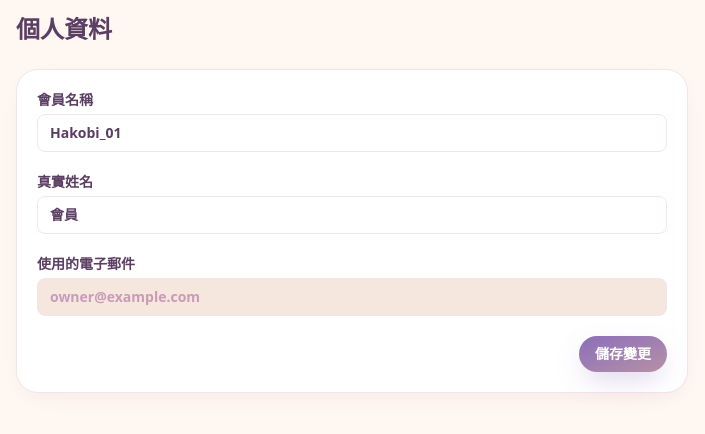
Test case: Profile view › keeps the submitted form and maps a username conflict to the field
Replace the text in the field with test id "profile-username" with "Hakobi_02" at (352, 133), box [37,114,667,152]
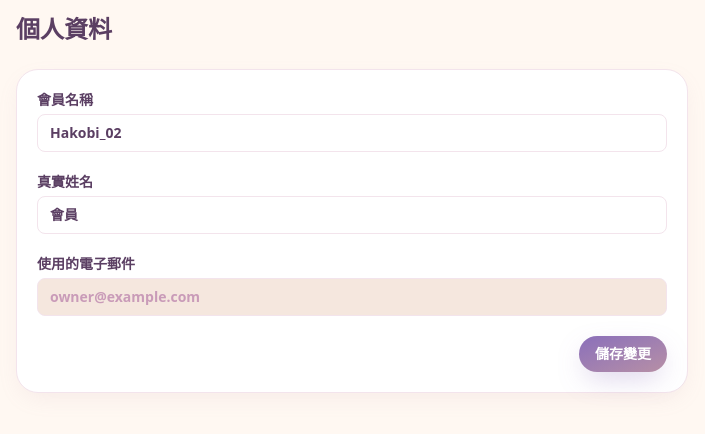
Replace the text in the field with test id "profile-display-name" with "王小明" at (352, 215), box [37,196,667,234]
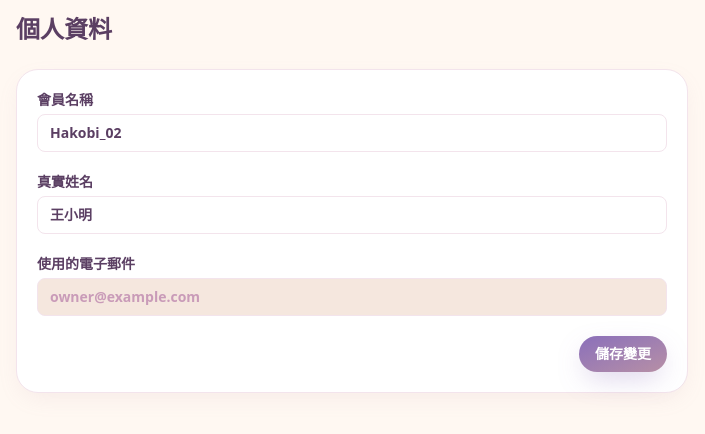
Submit the form, box [37,90,667,372]
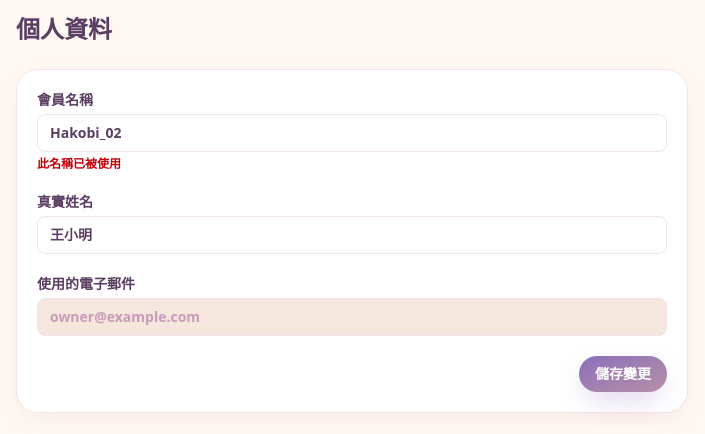
Now the text "此名稱已被使用" is shown, box [37,155,121,172]
